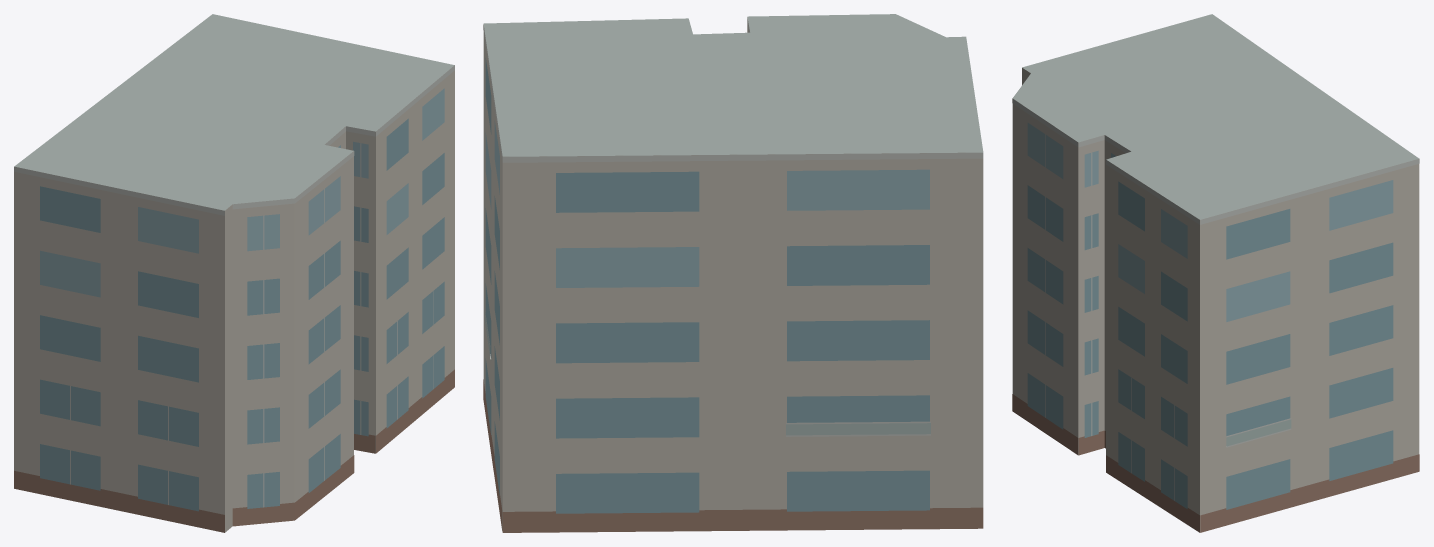
Rendered from survey-upis-32735212.glb.
The picture shows the model from 3 angles, left to right: view 1: azimuth 30°, elevation 25°; view 2: azimuth 150°, elevation 25°; view 3: azimuth 270°, elevation 25°; orthographic projection. The views are drawn at different scales.
Visible parts, largest first — view 1: survey-upis-32735212.tmp; view 2: survey-upis-32735212.tmp; view 3: survey-upis-32735212.tmp.
Boxes of the visible parts, x1,y1,x2,y2 form: survey-upis-32735212.tmp: (14, 14, 454, 532); survey-upis-32735212.tmp: (483, 14, 983, 532); survey-upis-32735212.tmp: (1012, 14, 1419, 532).
Size of the model in its own units: 21.53 by 15.25 by 17.98.
